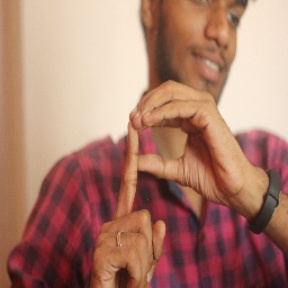P: (92, 78, 234, 263)
